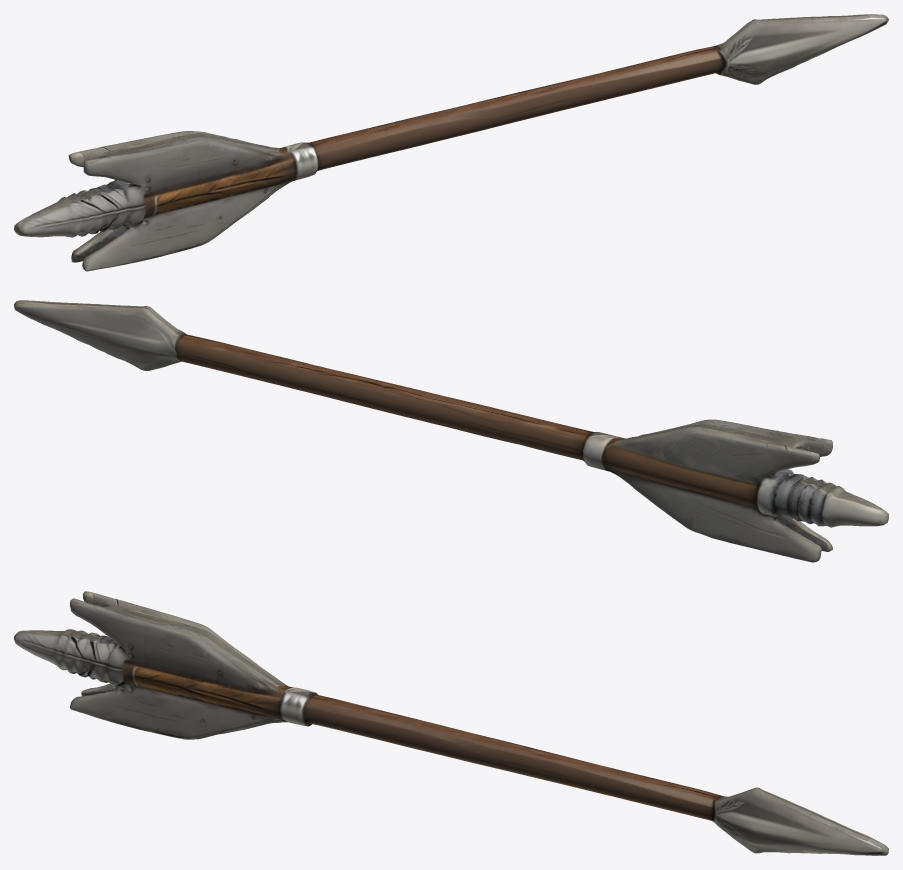
File: Model_PlayerArrow.fbx
3 views of the same model, one above another, from view 1: azimuth 30°, elevation 25°; view 2: azimuth 150°, elevation 25°; view 3: azimuth 330°, elevation 25° (orthographic).
Visible parts, largest first — view 1: input; view 2: input; view 3: input.
Part boxes in pixels (x1,y1,x2,y2): input: (14, 14, 888, 271); input: (14, 300, 888, 562); input: (14, 591, 888, 855).
Size of the model in its own units: 200 by 24.78 by 10.44.
1 material, 1 textured.
